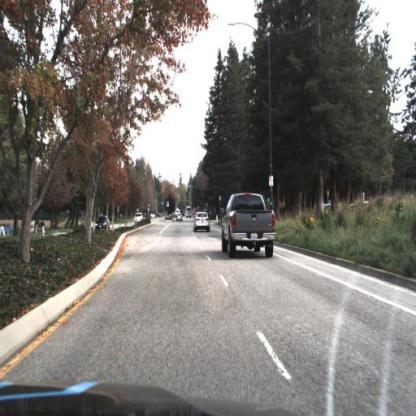car: (222, 191, 277, 259), (195, 210, 211, 235), (94, 214, 113, 230), (134, 211, 144, 225)
